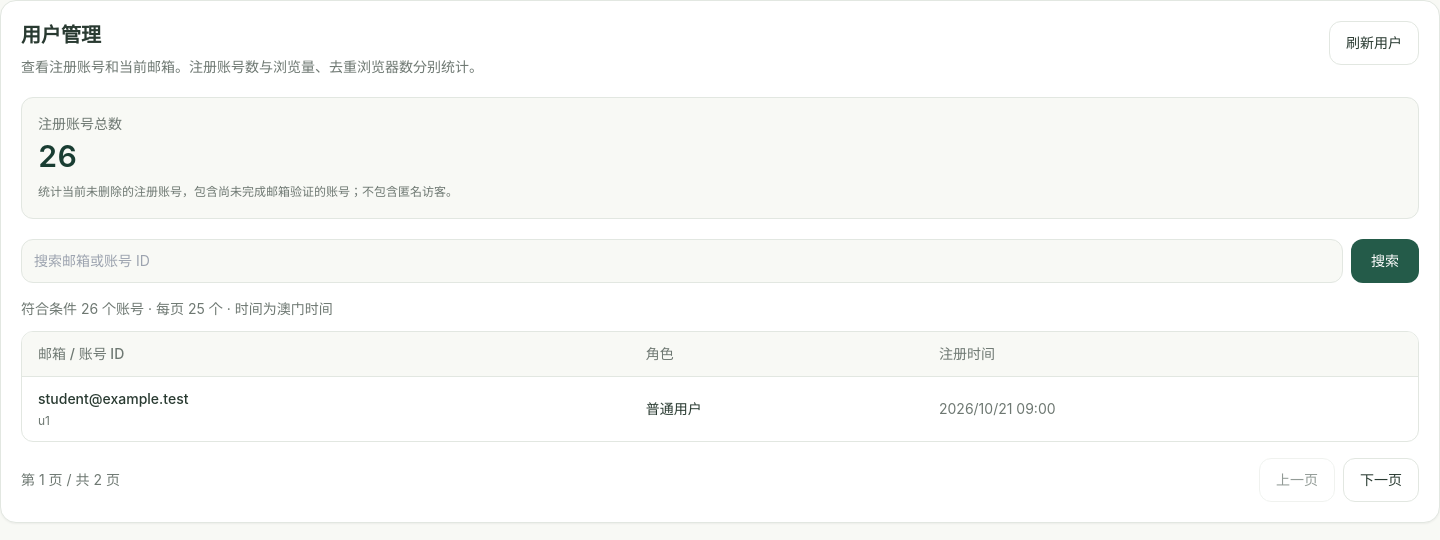
Test: registered account management › shows the true registration count and requests a new page instead of loading all users
The width and height of the screenshot is (1440, 540).
Click the button "下一页".
click(1381, 480)  # box top-left (1343, 458), bottom-right (1419, 502)
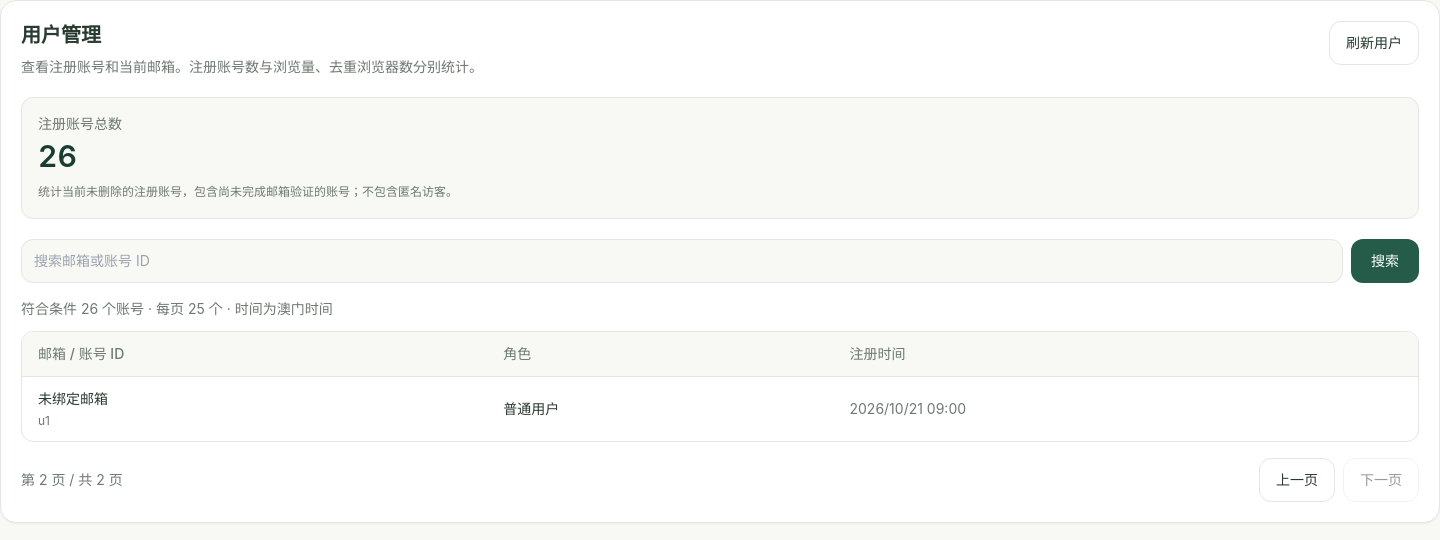
Expected: the text "未绑定邮箱" is shown, top-left (38, 390), bottom-right (108, 406)
Expected: the button "下一页" is disabled, top-left (1343, 458), bottom-right (1419, 502)
